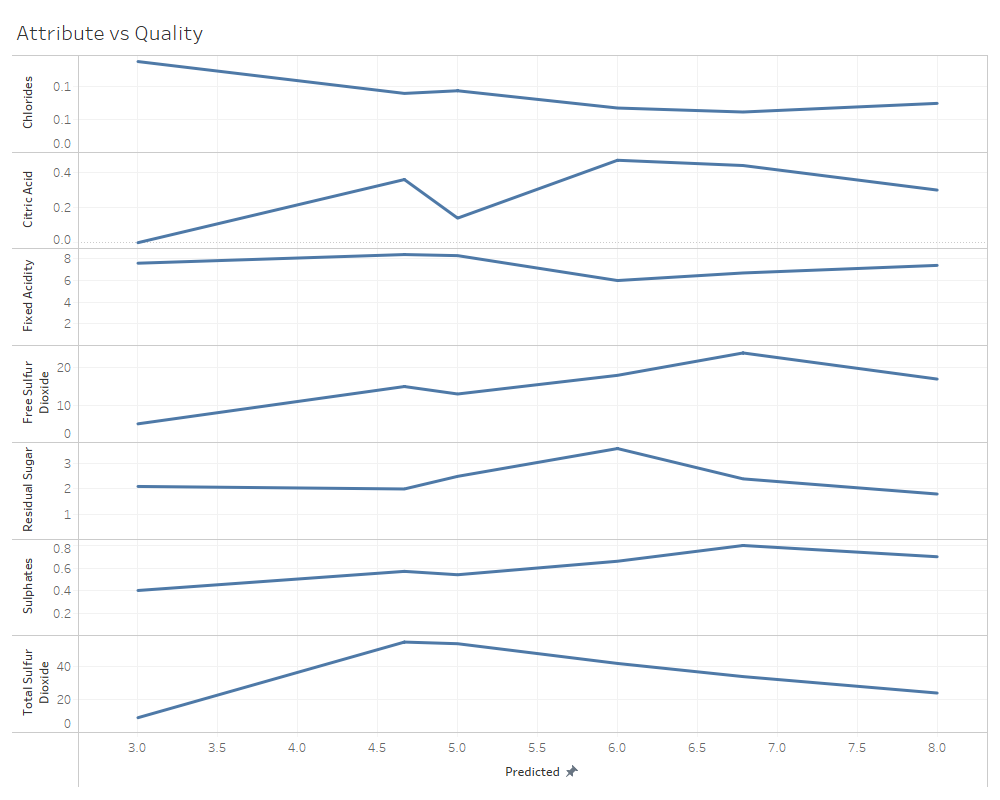

Layout of this report page (visuals, bound fields, positions):
{"tool":"tableau","page":{"name":"Dashboard 1","canvas":[1000,800],"ordinal":0},"visuals":[{"type":"worksheet","title":"Sheet 1","mark":"Automatic","rows":["chlorides","citric acid","fixed acidity","free sulfur dioxide","residual sugar","sulphates","total sulfur dioxide"],"cols":["Predicted"],"box":[8,8,984,784]}]}

Visuals, with their boxes in screenshot pixels (x1, y1, x2, y2), scaled from the page's 1000x800 canvas onto the 1000x800 screenshot:
"Sheet 1" worksheet: <region>8, 8, 992, 792</region>
